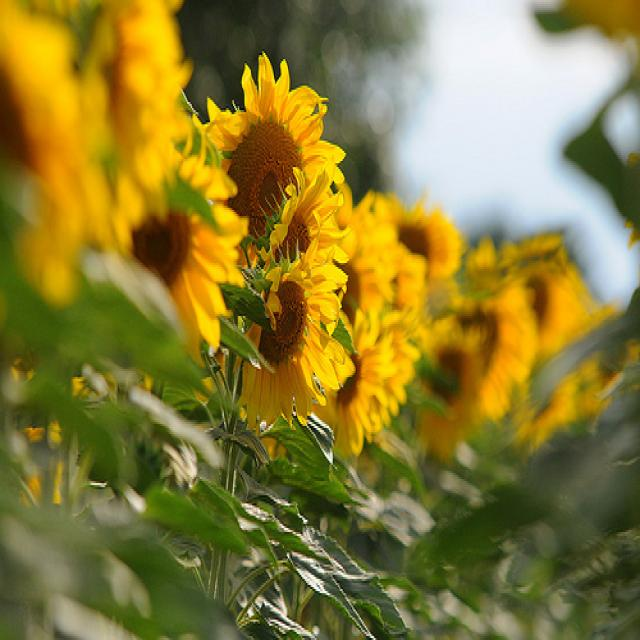sunflower: (192, 52, 317, 266), (240, 241, 336, 425)
